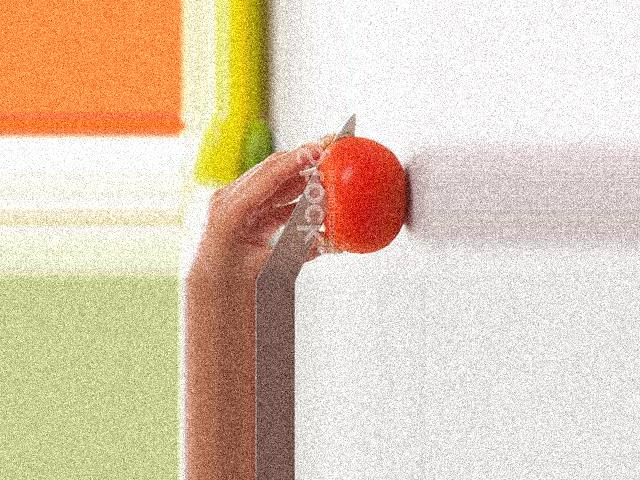tomato: (318, 137, 409, 255)
